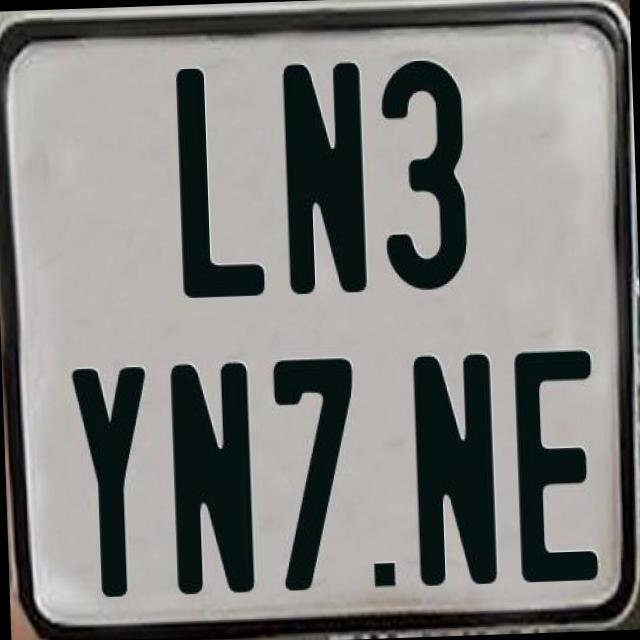3: (378, 57, 468, 299)
7: (270, 352, 362, 596)
E: (511, 348, 602, 590)
L: (170, 63, 264, 300)
N: (409, 350, 502, 590), (170, 361, 258, 599), (278, 60, 364, 298)
Y: (70, 363, 158, 601)
